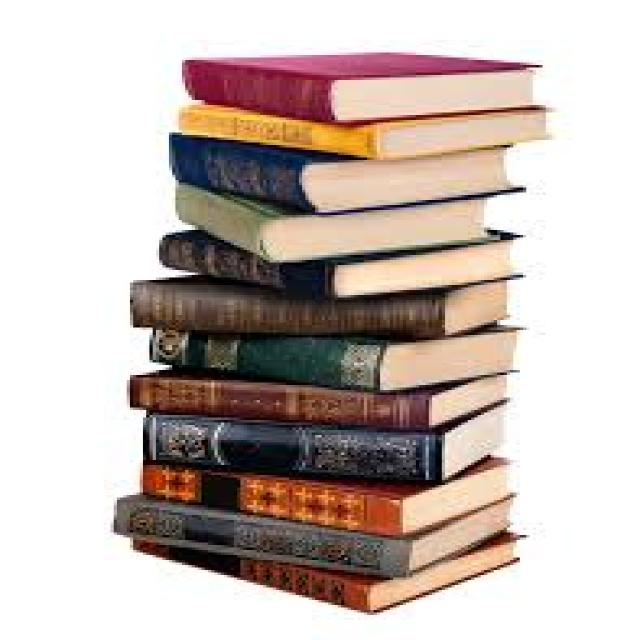paper: (130, 528, 520, 613), (111, 490, 510, 572), (136, 460, 523, 535), (163, 130, 527, 208), (169, 178, 503, 260), (159, 223, 526, 295), (146, 318, 523, 388), (127, 270, 510, 338), (136, 410, 507, 480), (182, 52, 542, 120), (176, 100, 553, 160), (127, 367, 517, 425)
